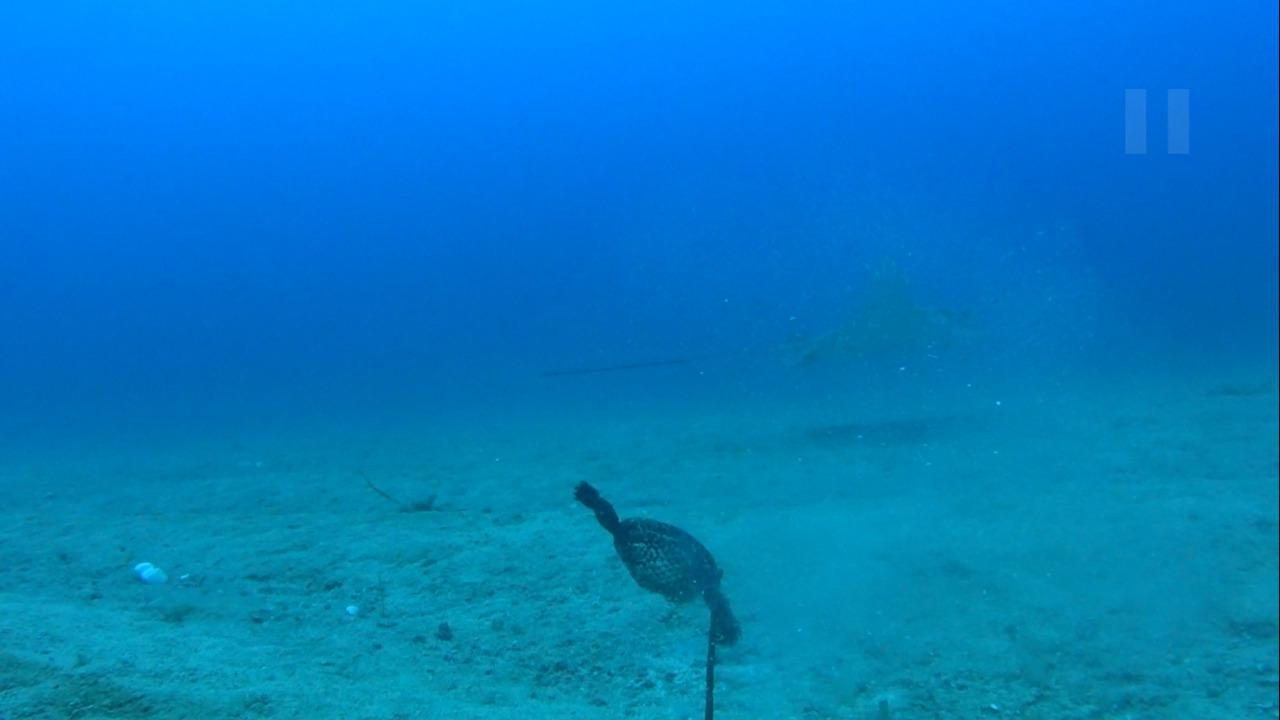myliobatis: (530, 251, 1006, 395)
